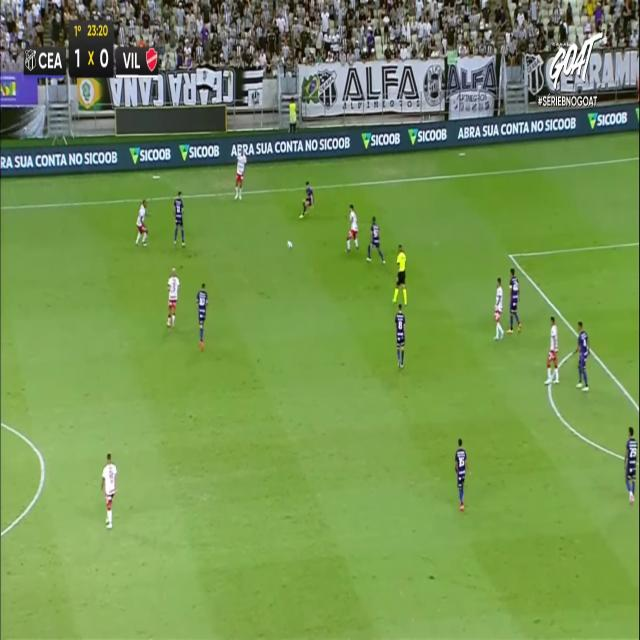ball: (287, 238, 293, 250)
player: (101, 452, 116, 528), (454, 438, 468, 511), (544, 316, 559, 384), (624, 426, 637, 504), (575, 320, 589, 391), (507, 267, 522, 333), (366, 215, 385, 263), (195, 282, 208, 346), (166, 267, 179, 327), (394, 303, 406, 368), (173, 190, 185, 246), (234, 144, 246, 200), (494, 277, 504, 338), (346, 203, 358, 252), (299, 180, 314, 218), (135, 199, 147, 246)
referee: (392, 244, 408, 306)
